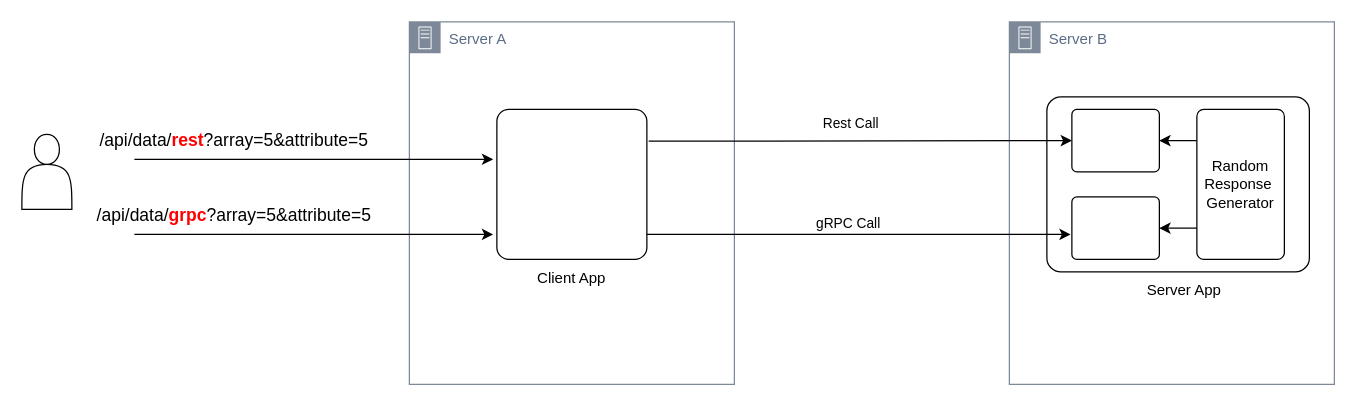
Image size: 1356x406. Some labels were removed from this diagram. The shapes that lost their labels are listed below. From the top down, each one's centre as x and y in pixels, then its label:
At [1115,140]: "REST".
At [1115,227]: "gRCP".
